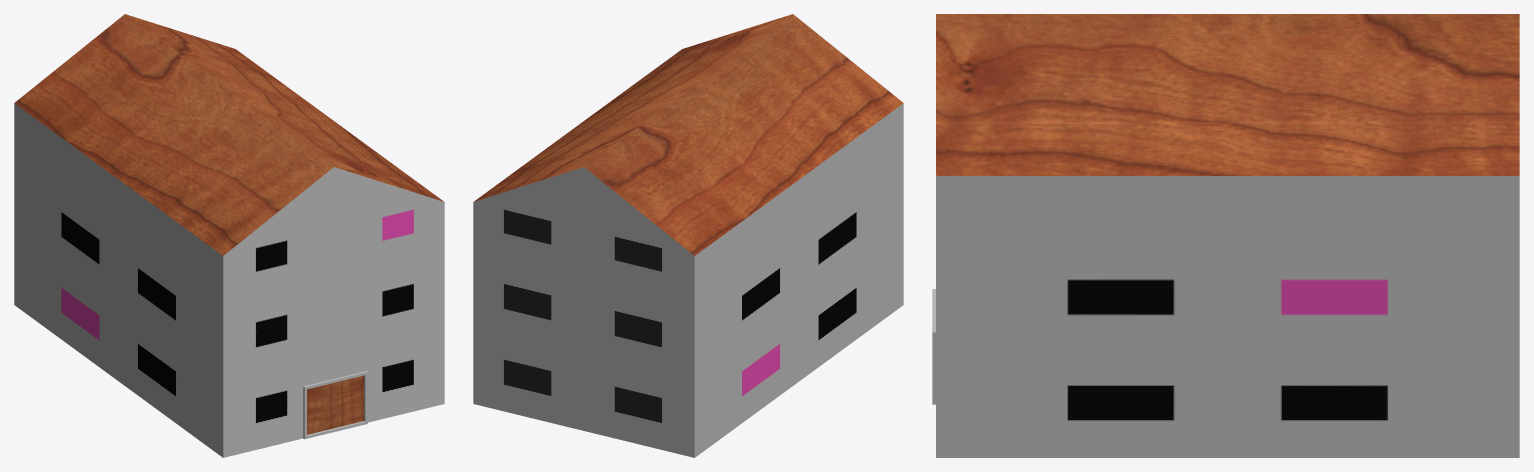
The model's file is Small Apartment LP.FBX.
The picture shows the model from 3 angles, left to right: view 1: azimuth 30°, elevation 25°; view 2: azimuth 150°, elevation 25°; view 3: azimuth 270°, elevation 25°; orthographic projection. The views are drawn at different scales.
Visible parts, largest first — view 1: Small Apartment Building LP; view 2: Small Apartment Building LP; view 3: Small Apartment Building LP.
Part boxes in pixels (x1,y1,x2,y2): Small Apartment Building LP: (14,14,444,457); Small Apartment Building LP: (473,14,903,457); Small Apartment Building LP: (932,14,1519,457).
Size of the model in its own units: 87.88 by 100 by 145.
1 material, 1 textured.
